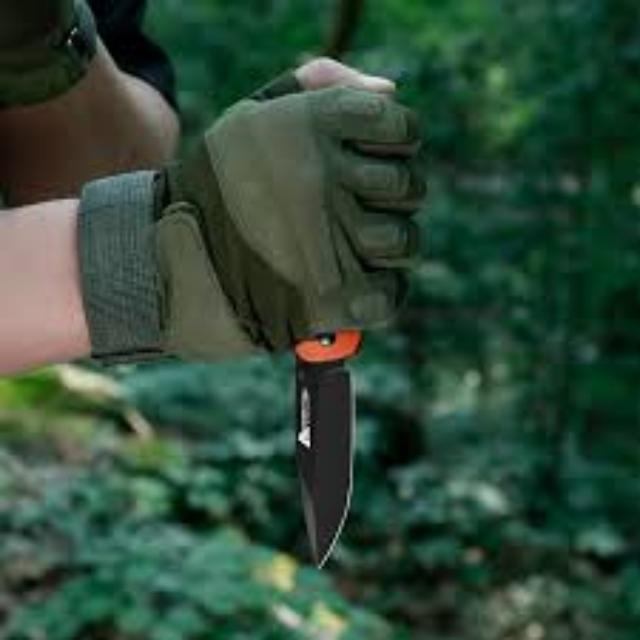knife: (0, 10, 458, 424), (192, 74, 420, 346), (290, 312, 362, 568)
